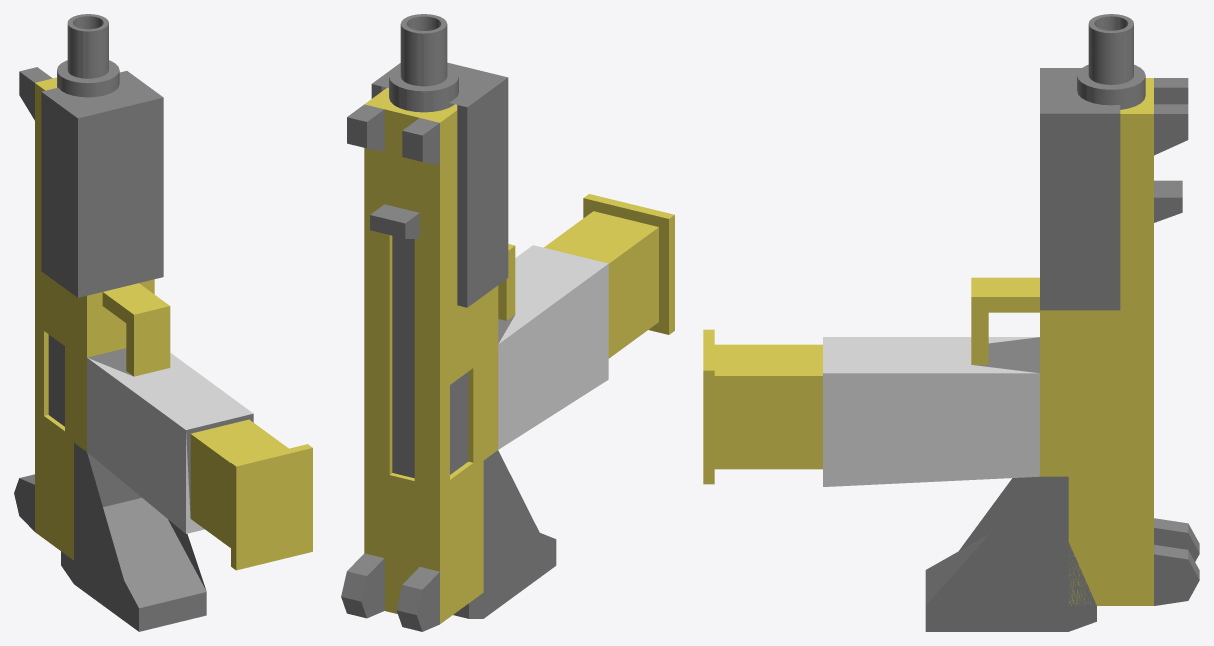
Rendered from uzigoldlong.fbx.
3 renders of one model, left to right at view 1: azimuth 30°, elevation 25°; view 2: azimuth 150°, elevation 25°; view 3: azimuth 270°, elevation 25°, orthographic. The views are drawn at different scales.
Visible parts, largest first — view 1: imagetostl_mesh94, imagetostl_mesh54, imagetostl_mesh32, imagetostl_mesh45, imagetostl_mesh294, imagetostl_mesh43, imagetostl_mesh124, imagetostl_mesh26, imagetostl_mesh125, imagetostl_mesh27, imagetostl_mesh97, imagetostl_mesh57 (+21 smaller); view 2: imagetostl_mesh54, imagetostl_mesh294, imagetostl_mesh43, imagetostl_mesh274, imagetostl_mesh26, imagetostl_mesh124, imagetostl_mesh127, imagetostl_mesh121, imagetostl_mesh126, imagetostl_mesh120, imagetostl_mesh125, imagetostl_mesh27 (+38 smaller); view 3: imagetostl_mesh103, imagetostl_mesh59, imagetostl_mesh36, imagetostl_mesh295, imagetostl_mesh18, imagetostl_mesh27, imagetostl_mesh57, imagetostl_mesh293, imagetostl_mesh96, imagetostl_mesh280, imagetostl_mesh100, imagetostl_mesh56 (+8 smaller).
Part boxes in pixels (left/top/right/bottom): imagetostl_mesh94: left=78, top=97, right=163, bottom=297; imagetostl_mesh54: left=87, top=358, right=185, bottom=533; imagetostl_mesh32: left=236, top=448, right=312, bottom=570; imagetostl_mesh45: left=103, top=498, right=206, bottom=608; imagetostl_mesh294: left=41, top=92, right=77, bottom=297; imagetostl_mesh43: left=61, top=443, right=138, bottom=631; imagetostl_mesh124: left=35, top=431, right=73, bottom=560; imagetostl_mesh26: left=190, top=434, right=230, bottom=547; imagetostl_mesh125: left=35, top=127, right=64, bottom=483; imagetostl_mesh27: left=191, top=419, right=288, bottom=462; imagetostl_mesh97: left=134, top=306, right=170, bottom=376; imagetostl_mesh57: left=170, top=368, right=253, bottom=429; imagetostl_mesh54: left=498, top=264, right=608, bottom=449; imagetostl_mesh294: left=467, top=77, right=508, bottom=307; imagetostl_mesh43: left=469, top=450, right=556, bottom=618; imagetostl_mesh274: left=392, top=236, right=414, bottom=478; imagetostl_mesh26: left=608, top=227, right=658, bottom=358; imagetostl_mesh124: left=440, top=460, right=483, bottom=623; imagetostl_mesh127: left=419, top=161, right=439, bottom=565; imagetostl_mesh121: left=364, top=149, right=384, bottom=557; imagetostl_mesh126: left=420, top=168, right=439, bottom=571; imagetostl_mesh120: left=364, top=148, right=384, bottom=557; imagetostl_mesh125: left=440, top=169, right=473, bottom=570; imagetostl_mesh27: left=544, top=199, right=658, bottom=263; imagetostl_mesh103: left=1040, top=114, right=1153, bottom=605; imagetostl_mesh59: left=823, top=373, right=1039, bottom=486; imagetostl_mesh36: left=925, top=476, right=1096, bottom=631; imagetostl_mesh295: left=1040, top=113, right=1120, bottom=310; imagetostl_mesh18: left=714, top=376, right=822, bottom=469; imagetostl_mesh27: left=714, top=344, right=822, bottom=375; imagetostl_mesh57: left=823, top=337, right=970, bottom=373; imagetostl_mesh293: left=1040, top=68, right=1120, bottom=113; imagetostl_mesh96: left=971, top=297, right=1039, bottom=364; imagetostl_mesh280: left=1154, top=554, right=1199, bottom=605; imagetostl_mesh100: left=974, top=337, right=1039, bottom=373; imagetostl_mesh56: left=825, top=337, right=971, bottom=364.
Size of the model in its own units: 1.14 by 6.85 by 5.22.
